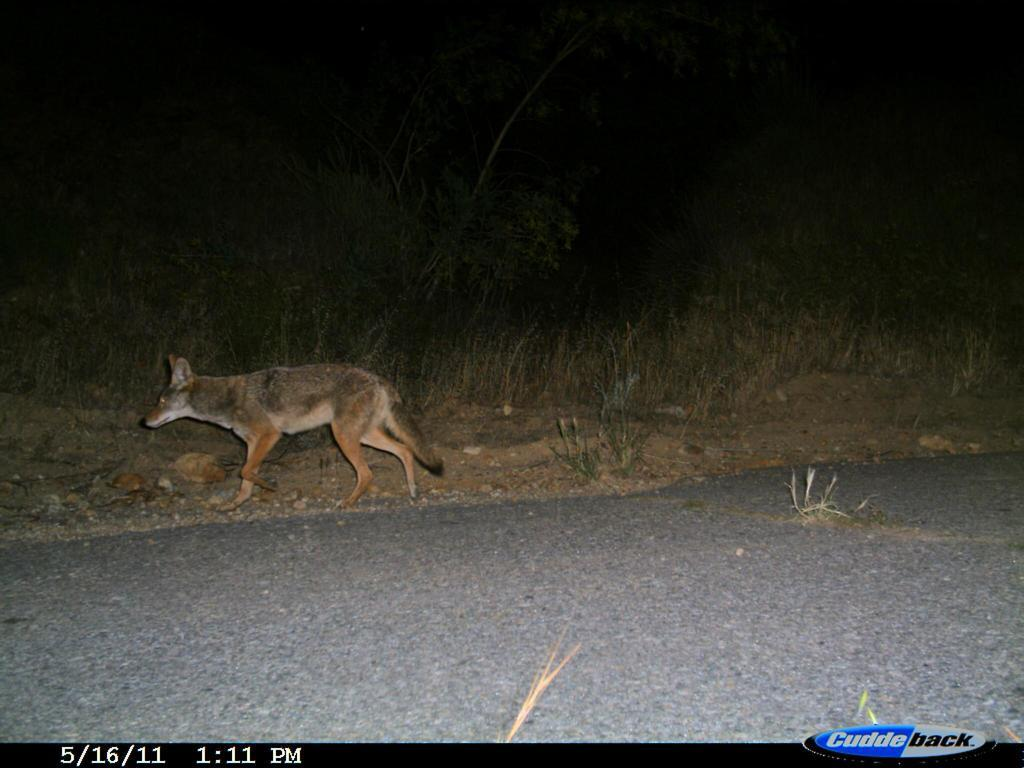coyote: (135, 344, 450, 514)
